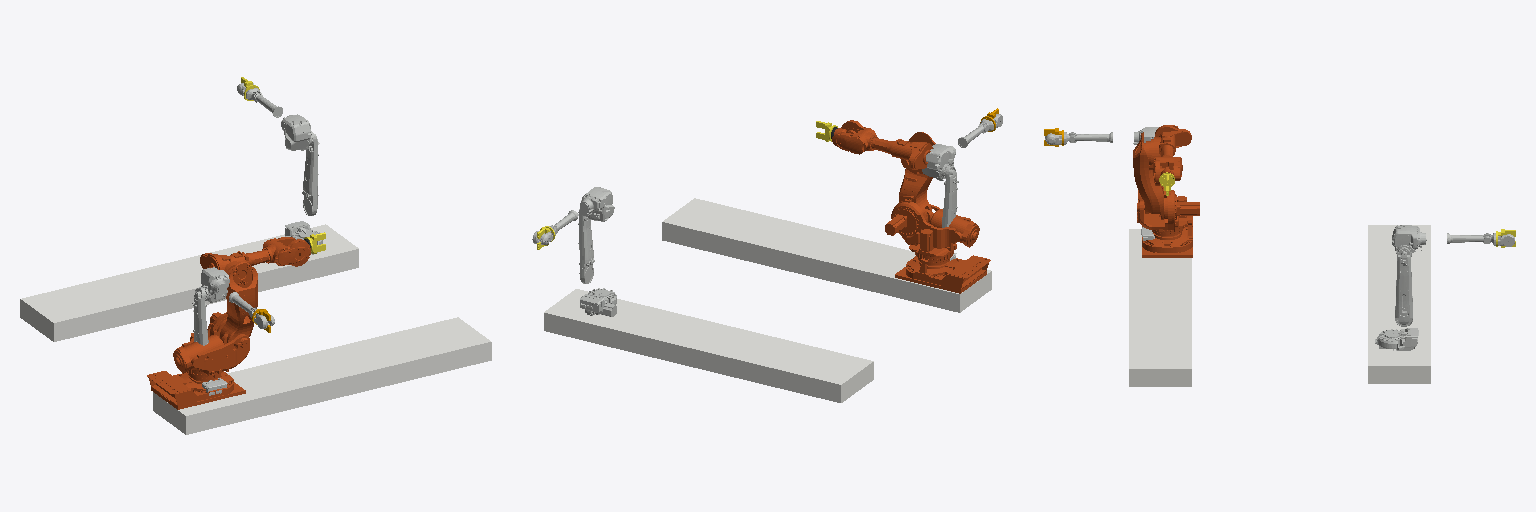
--- Render facts (derived) ---
Views: 3 orthographic renders of the robot side by side, from view 1: azimuth 30°, elevation 25°; view 2: azimuth 150°, elevation 25°; view 3: azimuth 270°, elevation 25°.
Model princeton_3rob_cell with 39 links and 38 joints (18 revolute, 2 prismatic, 18 fixed), rooted at world, posed all joints at 0 but 2 set to mid-range because 0 is outside their limits (r1_joint_1 = -3.14, r2_joint_1 = -3.14).
Visible links, largest first — view 1: r2_axis, r1_axis, r3_base_link, r3_link_1, r3_link_2, r3_link_4, r1_link_2, r1_link_3, r3_balancer_piston, r2_link_3, r2_link_2, r3_link_3; view 2: r1_axis, r2_axis, r3_link_1, r3_base_link, r3_link_4, r3_link_2, r3_link_3, r1_link_3, r1_link_2, r2_link_3, r3_balancer_piston, r2_link_2 (+1 smaller); view 3: r2_axis, r1_axis, r3_link_1, r3_link_2, r3_base_link, r1_link_2, r3_link_3, r1_link_3, r1_base_link, r3_link_4, r1_link_4.
Link boxes in pixels (left/top/right/bottom): r2_axis: left=153, top=317, right=491, bottom=434; r1_axis: left=20, top=224, right=358, bottom=341; r3_base_link: left=147, top=371, right=245, bottom=409; r3_link_1: left=181, top=312, right=249, bottom=380; r3_link_2: left=220, top=262, right=257, bottom=346; r3_link_4: left=246, top=237, right=310, bottom=266; r1_link_2: left=302, top=131, right=319, bottom=215; r1_link_3: left=281, top=114, right=312, bottom=150; r3_balancer_piston: left=173, top=334, right=232, bottom=372; r2_link_3: left=201, top=267, right=229, bottom=302; r2_link_2: left=192, top=287, right=208, bottom=345; r3_link_3: left=200, top=251, right=248, bottom=274; r1_axis: left=544, top=289, right=873, bottom=402; r2_axis: left=662, top=198, right=991, bottom=312; r3_link_1: left=885, top=199, right=972, bottom=264; r3_base_link: left=895, top=255, right=990, bottom=293; r3_link_4: left=832, top=120, right=894, bottom=154; r3_link_2: left=899, top=132, right=935, bottom=215; r3_link_3: left=891, top=139, right=932, bottom=173; r1_link_3: left=580, top=187, right=614, bottom=221; r1_link_2: left=577, top=209, right=594, bottom=283; r2_link_3: left=922, top=144, right=955, bottom=180; r3_balancer_piston: left=926, top=209, right=979, bottom=247; r2_link_2: left=942, top=165, right=958, bottom=227; r2_axis: left=1129, top=229, right=1191, bottom=386; r1_axis: left=1368, top=225, right=1430, bottom=383; r3_link_1: left=1137, top=190, right=1199, bottom=235; r3_link_2: left=1133, top=132, right=1166, bottom=219; r3_base_link: left=1142, top=216, right=1192, bottom=257; r1_link_2: left=1395, top=247, right=1412, bottom=326; r3_link_3: left=1144, top=125, right=1191, bottom=169; r1_link_3: left=1392, top=225, right=1426, bottom=256; r1_base_link: left=1375, top=328, right=1418, bottom=349; r3_link_4: left=1153, top=144, right=1182, bottom=185; r1_link_4: left=1447, top=233, right=1514, bottom=246.
Size in the robot's own frame: 5.21 by 7.21 by 2.43 metres.
27 mesh visuals loaded from 19 distinct referenced files (17 binary STL); not drawn: 2 (reference not matched to a file when rendering).

robot.urdf — princeton_3rob_cell:
<?xml version="1.0" ?>
<!-- =================================================================================== -->
<!-- |    This document was autogenerated by xacro from princeton_3rob_cell.xacro      | -->
<!-- |    EDITING THIS FILE BY HAND IS NOT RECOMMENDED                                 | -->
<!-- =================================================================================== -->
<robot name="princeton_3rob_cell">
  <!-- Conversion were obtained from http://www.e-paint.co.uk/Lab_values.asp
       unless otherwise stated. -->
  <link name="world"/>
  <!-- -->
  <!--ROBOT 1-->
  <joint name="r1_world_joint" type="fixed">
    <parent link="world"/>
    <child link="r1_axis"/>
    <origin rpy="0.0 0.0 3.14159" xyz="3.70 3.45 0.02"/>
  </joint>
  <!-- Conversion were obtained from http://www.e-paint.co.uk/Lab_values.asp
       unless otherwise stated. -->
  <!-- Conversion were obtained from http://www.e-paint.co.uk/Lab_values.asp
       unless otherwise stated. -->
  <!-- LINEAR AXIS -->
  <!-- linear axis link list -->
  <link name="r1_axis">
    <inertial>
      <origin xyz="0.0 0.0 0.0"/>
      <mass value="120"/>
      <inertia ixx="-4.98000" ixy="-0.00000" ixz="2.70000" iyy="-5.95200" iyz="-0.00000" izz="0.82800"/>
    </inertial>
    <visual>
      <geometry>
        <mesh filename="package://ECL_tracks/meshes/visual/axis.stl"/>
      </geometry>
      <material name="">
        <color rgba="0.9254902 0.9254902 0.9058824 1"/>
      </material>
    </visual>
    <collision>
      <geometry>
        <mesh filename="package://ECL_tracks/meshes/collision/axis.stl"/>
      </geometry>
    </collision>
  </link>
  <link name="r1_cart">
    <inertial>
      <origin xyz="0.0 0.0 0.0"/>
      <mass value="120.00000"/>
      <inertia ixx="-4.98000" ixy="-0.00000" ixz="2.70000" iyy="-5.95200" iyz="-0.00000" izz="0.82800"/>
    </inertial>
    <visual>
      <geometry>
        <mesh filename="package://ECL_tracks/meshes/visual/cart.stl"/>
      </geometry>
      <material name="">
        <color rgba="0.9254902 0.9254902 0.9058824 1"/>
      </material>
    </visual>
    <collision>
      <geometry>
        <mesh filename="package://ECL_tracks/meshes/collision/cart.stl"/>
      </geometry>
    </collision>
  </link>
  <!-- linear axis joint list -->
  <joint name="r1_cart_joint" type="prismatic">
    <parent link="r1_axis"/>
    <child link="r1_cart"/>
    <origin rpy="0 0 0 " xyz="0 0 0"/>
    <axis xyz="1 0 0"/>
    <limit effort="100000" lower="0" upper="3.9" velocity="2.618"/>
    <dynamics damping="0.2" friction="0"/>
  </joint>
  <joint name="r1_abb_joint" type="fixed">
    <parent link="r1_cart"/>
    <child link="r1_base_link"/>
    <origin rpy="0 0 1.5707963267948966 " xyz="0 0 0 "/>
    <dynamics damping="0.2" friction="0"/>
  </joint>
  <!-- ARE WE MISSING A WORLD TO AXIS fixed joint? for only the abb_on_axis group?-->
  <!-- GRIPPER -->
  <!-- gripper link list -->
  <link name="r1_gripper">
    <visual>
      <geometry>
        <mesh filename="package://abb_irb4600_40_255/meshes/visual/gripper.stl"/>
      </geometry>
    </visual>
    <collision>
      <geometry>
        <mesh filename="package://abb_irb4600_40_255/meshes/collision/gripper.stl"/>
      </geometry>
    </collision>
  </link>
  <link name="r1_tcp"/>
  <!-- gripper joint list -->
  <joint name="r1_gripper_joint" type="fixed">
    <parent link="r1_tool0"/>
    <child link="r1_gripper"/>
    <origin rpy="0 0 0" xyz="0 0 0"/>
  </joint>
  <joint name="r1_tcp_joint" type="fixed">
    <parent link="r1_gripper"/>
    <child link="r1_tcp"/>
    <origin rpy="0 0 0" xyz="0 0 0.352"/>
  </joint>
  <!-- IRB4600 -->
  <!-- irb4600 link list -->
  <link name="r1_base_link">
    <inertial>
      <origin xyz="0.0 0.0 0.0"/>
      <mass value="120.00000"/>
      <inertia ixx="-4.98000" ixy="-0.00000" ixz="2.70000" iyy="-5.95200" iyz="-0.00000" izz="0.82800"/>
    </inertial>
    <visual>
      <geometry>
        <mesh filename="package://abb_irb4600_40_255/meshes/visual/base_link.stl"/>
      </geometry>
      <material name="">
        <color rgba="0.7725490 0.7803922 0.7686275 1"/>
      </material>
    </visual>
    <collision>
      <geometry>
        <mesh filename="package://abb_irb4600_40_255/meshes/collision/base_link.stl"/>
      </geometry>
    </collision>
  </link>
  <link name="r1_link_1">
    <inertial>
      <origin xyz="0.18000 0.00000 0.50000"/>
      <mass value="120.00000"/>
      <inertia ixx="-4.98000" ixy="-0.00000" ixz="2.70000" iyy="-5.95200" iyz="-0.00000" izz="0.82800"/>
    </inertial>
    <visual>
      <geometry>
        <mesh filename="package://abb_irb4600_40_255/meshes/visual/link_1.stl"/>
      </geometry>
      <material name="">
        <color rgba="0.7725490 0.7803922 0.7686275 1"/>
      </material>
    </visual>
    <collision>
      <geometry>
        <mesh filename="package://abb_irb4600_40_255/meshes/collision/link_1.stl"/>
      </geometry>
    </collision>
  </link>
  <link name="r1_link_2">
    <inertial>
      <origin xyz="0.94000 0.08000 -0.34000"/>
      <mass value="120.00000"/>
      <inertia ixx="-2.96000" ixy="2.25600" ixz="-9.58800" iyy="-18.72601" iyz="-0.81600" izz="-14.95000"/>
    </inertial>
    <visual>
      <geometry>
        <mesh filename="package://abb_irb4600_40_255/meshes/visual/link_2.stl"/>
      </geometry>
      <material name="">
        <color rgba="0.7725490 0.7803922 0.7686275 1"/>
      </material>
    </visual>
    <collision>
      <geometry>
        <mesh filename="package://abb_irb4600_40_255/meshes/collision/link_2.stl"/>
      </geometry>
    </collision>
  </link>
  <link name="r1_link_3">
    <inertial>
      <origin xyz="0.07000 -0.26600 0.08800"/>
      <mass value="120.00000"/>
      <inertia ixx="1.34500" ixy="-0.55860" ixz="0.18480" iyy="4.65068" iyz="-0.70224" izz="2.76032"/>
    </inertial>
    <visual>
      <geometry>
        <mesh filename="package://abb_irb4600_40_255/meshes/visual/link_3.stl"/>
      </geometry>
      <material name="">
        <color rgba="0.7725490 0.7803922 0.7686275 1"/>
      </material>
    </visual>
    <collision>
      <geometry>
        <mesh filename="package://abb_irb4600_40_255/meshes/collision/link_3.stl"/>
      </geometry>
    </collision>
  </link>
  <link name="r1_link_4">
    <inertial>
      <origin xyz="0.00000 0.00000 1.00000"/>
      <mass value="40.00000"/>
      <inertia ixx="-8.00000" ixy="-0.00000" ixz="-0.00000" iyy="-8.00000" iyz="-0.00000" izz="0.48200"/>
    </inertial>
    <visual>
      <geometry>
        <mesh filename="package://abb_irb4600_40_255/meshes/visual/link_4.stl"/>
      </geometry>
      <material name="">
        <color rgba="0.7725490 0.7803922 0.7686275 1"/>
      </material>
    </visual>
    <collision>
      <geometry>
        <mesh filename="package://abb_irb4600_40_255/meshes/collision/link_4.stl"/>
      </geometry>
    </collision>
  </link>
  <link name="r1_link_5">
    <inertial>
      <origin xyz="0.14000 0.00000 0.00000"/>
      <mass value="10.00000"/>
      <inertia ixx="0.04000" ixy="-0.00000" ixz="-0.00000" iyy="-0.00900" iyz="-0.00000" izz="-0.00400"/>
    </inertial>
    <visual>
      <geometry>
        <mesh filename="package://abb_irb4600_40_255/meshes/visual/link_5.stl"/>
      </geometry>
      <material name="">
        <color rgba="0.7725490 0.7803922 0.7686275 1"/>
      </material>
    </visual>
    <collision>
      <geometry>
        <mesh filename="package://abb_irb4600_40_255/meshes/collision/link_5.stl"/>
      </geometry>
    </collision>
  </link>
  <link name="r1_link_6">
    <inertial>
      <origin xyz="0.08100 -0.09100 0.33200"/>
      <mass value="5.00000"/>
      <inertia ixx="-0.29652" ixy="-0.03686" ixz="0.09396" iyy="-0.28792" iyz="-0.10556" izz="-0.04621"/>
    </inertial>
    <visual>
      <geometry>
        <mesh filename="package://abb_irb4600_40_255/meshes/visual/link_6.stl"/>
      </geometry>
      <material name="">
        <color rgba="0.1882353 0.1960784 0.2039216 1"/>
      </material>
    </visual>
    <collision>
      <geometry>
        <mesh filename="package://abb_irb4600_40_255/meshes/collision/link_6.stl"/>
      </geometry>
    </collision>
  </link>
  <link name="r1_tool0"/>
  <!-- irb4600 joint list -->
  <joint name="r1_joint_1" type="revolute">
    <parent link="r1_base_link"/>
    <child link="r1_link_1"/>
    <origin rpy="0 0 0 " xyz="0 0 0"/>
    <axis xyz="0 0 1"/>
    <limit effort="100000" lower="-3.141592653589793" upper="-3.141592653589793" velocity="2.618"/>
    <dynamics damping="0.2" friction="0"/>
  </joint>
  <joint name="r1_joint_2" type="revolute">
    <parent link="r1_link_1"/>
    <child link="r1_link_2"/>
    <origin rpy="0 0 0 " xyz="0.175 0 0.495"/>
    <axis xyz="0 1 0"/>
    <limit effort="100000" lower="-1.3089969389957472" upper="2.6179938779914944" velocity="2.618"/>
    <dynamics damping="0.2" friction="0"/>
  </joint>
  <joint name="r1_joint_3" type="revolute">
    <parent link="r1_link_2"/>
    <child link="r1_link_3"/>
    <origin rpy="0 0 0 " xyz="0 0 1.095"/>
    <axis xyz="0 1 0"/>
    <limit effort="100000" lower="-3.141592653589793" upper="1.3089969389957472" velocity="2.618"/>
    <dynamics damping="0.2" friction="0"/>
  </joint>
  <joint name="r1_joint_4" type="revolute">
    <parent link="r1_link_3"/>
    <child link="r1_link_4"/>
    <origin rpy="0 0 0 " xyz="0.332 0 0.175"/>
    <axis xyz="1 0 0"/>
    <limit effort="10000" lower="-6.981317007977318" upper="6.981317007977318" velocity="6.2832"/>
    <dynamics damping="0.2" friction="0"/>
  </joint>
  <joint name="r1_joint_5" type="revolute">
    <parent link="r1_link_4"/>
    <child link="r1_link_5"/>
    <origin rpy="0 0 0 " xyz="0.939 0 0"/>
    <axis xyz="0 1 0"/>
    <limit effort="100000" lower="-2.181661564992912" upper="2.0943951023931953" velocity="6.2832"/>
    <dynamics damping="0.2" friction="0"/>
  </joint>
  <joint name="r1_joint_6" type="revolute">
    <parent link="r1_link_5"/>
    <child link="r1_link_6"/>
    <origin rpy="0 0 0 " xyz="0.135 0 0"/>
    <axis xyz="1 0 0"/>
    <limit effort="100000" lower="-6.981317007977318" upper="6.981317007977318" velocity="7.854"/>
    <dynamics damping="0.2" friction="0"/>
  </joint>
  <joint name="r1_joint_6-tool0" type="fixed">
    <parent link="r1_link_6"/>
    <child link="r1_tool0"/>
    <origin rpy="0 1.5707963267948966 0" xyz="0 0 0"/>
  </joint>
  <!-- -->
  <!-- IRB4600 base_link to ABB World Coordinates transform -->
  <link name="r1_base"/>
  <joint name="r1_base_link-base" type="fixed">
    <parent link="r1_base_link"/>
    <child link="r1_base"/>
    <origin rpy="0 0 0" xyz="0 0 0"/>
  </joint>
  <!-- -->
  <!--ROBOT 2-->
  <joint name="r2_world_joint" type="fixed">
    <parent link="world"/>
    <child link="r2_axis"/>
    <origin rpy="0.0 0.0 0.0" xyz="0.0 0.0 0.0"/>
  </joint>
  <!-- Conversion were obtained from http://www.e-paint.co.uk/Lab_values.asp
       unless otherwise stated. -->
  <!-- Conversion were obtained from http://www.e-paint.co.uk/Lab_values.asp
       unless otherwise stated. -->
  <!-- LINEAR AXIS -->
  <!-- linear axis link list -->
  <link name="r2_axis">
    <inertial>
      <origin xyz="0.0 0.0 0.0"/>
      <mass value="120"/>
      <inertia ixx="-4.98000" ixy="-0.00000" ixz="2.70000" iyy="-5.95200" iyz="-0.00000" izz="0.82800"/>
    </inertial>
    <visual>
      <geometry>
        <mesh filename="package://ECL_tracks/meshes/visual/axis.stl"/>
      </geometry>
      <material name="">
        <color rgba="0.9254902 0.9254902 0.9058824 1"/>
      </material>
    </visual>
    <collision>
      <geometry>
        <mesh filename="package://ECL_tracks/meshes/collision/axis.stl"/>
      </geometry>
    </collision>
  </link>
  <link name="r2_cart">
    <inertial>
      <origin xyz="0.0 0.0 0.0"/>
      <mass value="120.00000"/>
      <inertia ixx="-4.98000" ixy="-0.00000" ixz="2.70000" iyy="-5.95200" iyz="-0.00000" izz="0.82800"/>
    </inertial>
    <visual>
      <geometry>
        <mesh filename="package://ECL_tracks/meshes/visual/cart.stl"/>
      </geometry>
      <material name="">
        <color rgba="0.9254902 0.9254902 0.9058824 1"/>
      </material>
    </visual>
    <collision>
      <geometry>
        <mesh filename="package://ECL_tracks/meshes/collision/cart.stl"/>
      </geometry>
    </collision>
  </link>
  <!-- linear axis joint list -->
  <joint name="r2_cart_joint" type="prismatic">
    <parent link="r2_axis"/>
    <child link="r2_cart"/>
    <origin rpy="0 0 0 " xyz="0 0 0"/>
    <axis xyz="1 0 0"/>
    <limit effort="100000" lower="0" upper="3.9" velocity="2.618"/>
    <dynamics damping="0.2" friction="0"/>
  </joint>
  <joint name="r2_abb_joint" type="fixed">
    <parent link="r2_cart"/>
    <child link="r2_base_link"/>
    <origin rpy="0 0 1.5707963267948966 " xyz="0 0 0 "/>
    <dynamics damping="0.2" friction="0"/>
  </joint>
  <!-- ARE WE MISSING A WORLD TO AXIS fixed joint? for only the abb_on_axis group?-->
  <!-- GRIPPER -->
  <!-- gripper link list -->
  <link name="r2_gripper">
    <visual>
      <geometry>
        <mesh filename="package://abb_irb4600_40_255/meshes/visual/gripper.stl"/>
      </geometry>
    </visual>
    <collision>
      <geometry>
        <mesh filename="package://abb_irb4600_40_255/meshes/collision/gripper.stl"/>
      </geometry>
    </collision>
  </link>
  <link name="r2_tcp"/>
  <!-- gripper joint list -->
  <joint name="r2_gripper_joint" type="fixed">
    <parent link="r2_tool0"/>
    <child link="r2_gripper"/>
    <origin rpy="0 0 0" xyz="0 0 0"/>
  </joint>
  <joint name="r2_tcp_joint" type="fixed">
    <parent link="r2_gripper"/>
    <child link="r2_tcp"/>
    <origin rpy="0 0 0" xyz="0 0 0.352"/>
  </joint>
  <!-- IRB4600 -->
  <!-- irb4600 link list -->
  <link name="r2_base_link">
    <inertial>
      <origin xyz="0.0 0.0 0.0"/>
      <mass value="120.00000"/>
      <inertia ixx="-4.98000" ixy="-0.00000" ixz="2.70000" iyy="-5.95200" iyz="-0.00000" izz="0.82800"/>
    </inertial>
    <visual>
      <geometry>
        <mesh filename="package://abb_irb4600_40_255/meshes/visual/base_link.stl"/>
      </geometry>
      <material name="">
        <color rgba="0.7725490 0.7803922 0.7686275 1"/>
      </material>
    </visual>
    <collision>
      <geometry>
        <mesh filename="package://abb_irb4600_40_255/meshes/collision/base_link.stl"/>
      </geometry>
    </collision>
  </link>
  <link name="r2_link_1">
    <inertial>
      <origin xyz="0.18000 0.00000 0.50000"/>
      <mass value="120.00000"/>
      <inertia ixx="-4.98000" ixy="-0.00000" ixz="2.70000" iyy="-5.95200" iyz="-0.00000" izz="0.82800"/>
    </inertial>
    <visual>
      <geometry>
        <mesh filename="package://abb_irb4600_40_255/meshes/visual/link_1.stl"/>
      </geometry>
      <material name="">
        <color rgba="0.7725490 0.7803922 0.7686275 1"/>
      </material>
    </visual>
    <collision>
      <geometry>
        <mesh filename="package://abb_irb4600_40_255/meshes/collision/link_1.stl"/>
      </geometry>
    </collision>
  </link>
  <link name="r2_link_2">
    <inertial>
      <origin xyz="0.94000 0.08000 -0.34000"/>
      <mass value="120.00000"/>
      <inertia ixx="-2.96000" ixy="2.25600" ixz="-9.58800" iyy="-18.72601" iyz="-0.81600" izz="-14.95000"/>
    </inertial>
    <visual>
      <geometry>
        <mesh filename="package://abb_irb4600_40_255/meshes/visual/link_2.stl"/>
      </geometry>
      <material name="">
        <color rgba="0.7725490 0.7803922 0.7686275 1"/>
      </material>
    </visual>
    <collision>
      <geometry>
        <mesh filename="package://abb_irb4600_40_255/meshes/collision/link_2.stl"/>
      </geometry>
    </collision>
  </link>
  <link name="r2_link_3">
    <inertial>
      <origin xyz="0.07000 -0.26600 0.08800"/>
      <mass value="120.00000"/>
      <inertia ixx="1.34500" ixy="-0.55860" ixz="0.18480" iyy="4.65068" iyz="-0.70224" izz="2.76032"/>
    </inertial>
    <visual>
      <geometry>
        <mesh filename="package://abb_irb4600_40_255/meshes/visual/link_3.stl"/>
      </geometry>
      <material name="">
        <color rgba="0.7725490 0.7803922 0.7686275 1"/>
      </material>
    </visual>
    <collision>
      <geometry>
        <mesh filename="package://abb_irb4600_40_255/meshes/collision/link_3.stl"/>
      </geometry>
    </collision>
  </link>
  <link name="r2_link_4">
    <inertial>
      <origin xyz="0.00000 0.00000 1.00000"/>
      <mass value="40.00000"/>
      <inertia ixx="-8.00000" ixy="-0.00000" ixz="-0.00000" iyy="-8.00000" iyz="-0.00000" izz="0.48200"/>
    </inertial>
    <visual>
      <geometry>
        <mesh filename="package://abb_irb4600_40_255/meshes/visual/link_4.stl"/>
      </geometry>
      <material name="">
        <color rgba="0.7725490 0.7803922 0.7686275 1"/>
      </material>
    </visual>
    <collision>
      <geometry>
        <mesh filename="package://abb_irb4600_40_255/meshes/collision/link_4.stl"/>
      </geometry>
    </collision>
  </link>
  <link name="r2_link_5">
    <inertial>
      <origin xyz="0.14000 0.00000 0.00000"/>
      <mass value="10.00000"/>
      <inertia ixx="0.04000" ixy="-0.00000" ixz="-0.00000" iyy="-0.00900" iyz="-0.00000" izz="-0.00400"/>
    </inertial>
    <visual>
      <geometry>
        <mesh filename="package://abb_irb4600_40_255/meshes/visual/link_5.stl"/>
      </geometry>
      <material name="">
        <color rgba="0.7725490 0.7803922 0.7686275 1"/>
      </material>
    </visual>
    <collision>
      <geometry>
        <mesh filename="package://abb_irb4600_40_255/meshes/collision/link_5.stl"/>
      </geometry>
    </collision>
  </link>
  <link name="r2_link_6">
    <inertial>
      <origin xyz="0.08100 -0.09100 0.33200"/>
      <mass value="5.00000"/>
      <inertia ixx="-0.29652" ixy="-0.03686" ixz="0.09396" iyy="-0.28792" iyz="-0.10556" izz="-0.04621"/>
    </inertial>
    <visual>
      <geometry>
        <mesh filename="package://abb_irb4600_40_255/meshes/visual/link_6.stl"/>
      </geometry>
      <material name="">
        <color rgba="0.1882353 0.1960784 0.2039216 1"/>
      </material>
    </visual>
    <collision>
      <geometry>
        <mesh filename="package://abb_irb4600_40_255/meshes/collision/link_6.stl"/>
      </geometry>
    </collision>
  </link>
  <link name="r2_tool0"/>
  <!-- irb4600 joint list -->
  <joint name="r2_joint_1" type="revolute">
    <parent link="r2_base_link"/>
    <child link="r2_link_1"/>
    <origin rpy="0 0 0 " xyz="0 0 0"/>
    <axis xyz="0 0 1"/>
    <limit effort="100000" lower="-3.141592653589793" upper="-3.141592653589793" velocity="2.618"/>
    <dynamics damping="0.2" friction="0"/>
  </joint>
  <joint name="r2_joint_2" type="revolute">
    <parent link="r2_link_1"/>
    <child link="r2_link_2"/>
    <origin rpy="0 0 0 " xyz="0.175 0 0.495"/>
    <axis xyz="0 1 0"/>
    <limit effort="100000" lower="-1.3089969389957472" upper="2.6179938779914944" velocity="2.618"/>
    <dynamics damping="0.2" friction="0"/>
  </joint>
  <joint name="r2_joint_3" type="revolute">
    <parent link="r2_link_2"/>
    <child link="r2_link_3"/>
    <origin rpy="0 0 0 " xyz="0 0 1.095"/>
    <axis xyz="0 1 0"/>
    <limit effort="100000" lower="-3.141592653589793" upper="1.3089969389957472" velocity="2.618"/>
    <dynamics damping="0.2" friction="0"/>
  </joint>
  <joint name="r2_joint_4" type="revolute">
    <parent link="r2_link_3"/>
    <child link="r2_link_4"/>
    <origin rpy="0 0 0 " xyz="0.332 0 0.175"/>
    <axis xyz="1 0 0"/>
    <limit effort="10000" lower="-6.981317007977318" upper="6.981317007977318" velocity="6.2832"/>
    <dynamics damping="0.2" friction="0"/>
  </joint>
  <joint name="r2_joint_5" type="revolute">
    <parent link="r2_link_4"/>
    <child link="r2_link_5"/>
    <origin rpy="0 0 0 " xyz="0.939 0 0"/>
    <axis xyz="0 1 0"/>
    <limit effort="100000" lower="-2.181661564992912" upper="2.0943951023931953" velocity="6.2832"/>
    <dynamics damping="0.2" friction="0"/>
  </joint>
  <joint name="r2_joint_6" type="revolute">
    <parent link="r2_link_5"/>
    <child link="r2_link_6"/>
    <origin rpy="0 0 0 " xyz="0.135 0 0"/>
    <axis xyz="1 0 0"/>
    <limit effort="100000" lower="-6.981317007977318" upper="6.981317007977318" velocity="7.854"/>
    <dynamics damping="0.2" friction="0"/>
  </joint>
  <joint name="r2_joint_6-tool0" type="fixed">
    <parent link="r2_link_6"/>
    <child link="r2_tool0"/>
    <origin rpy="0 1.5707963267948966 0" xyz="0 0 0"/>
  </joint>
  <!-- -->
  <!-- IRB4600 base_link to ABB World Coordinates transform -->
  <link name="r2_base"/>
  <joint name="r2_base_link-base" type="fixed">
    <parent link="r2_base_link"/>
    <child link="r2_base"/>
    <origin rpy="0 0 0" xyz="0 0 0"/>
  </joint>
  <!-- -->
  <!--ROBOT 3-->
  <joint name="r3_world_joint" type="fixed">
    <parent link="world"/>
    <child link="r3_base_link"/>
    <origin rpy="0.0 0.0 0.0" xyz="0.0 0.0 0.0"/>
  </joint>
  <!-- GRIPPER -->
  <!-- gripper link list -->
  <link name="r3_gripper">
    <visual>
      <geometry>
        <mesh filename="package://abb_irb7600_400_255/meshes/visual/gripper.stl"/>
      </geometry>
    </visual>
    <collision>
      <geometry>
        <mesh filename="package://abb_irb7600_400_255/meshes/collision/gripper.stl"/>
      </geometry>
    </collision>
  </link>
  <link name="r3_tcp"/>
  <!-- gripper joint list -->
  <joint name="r3_gripper_joint" type="fixed">
    <parent link="r3_tool0"/>
    <child link="r3_gripper"/>
    <origin rpy="0 0 0" xyz="0 0 0"/>
  </joint>
  <joint name="r3_tcp_joint" type="fixed">
    <parent link="r3_gripper"/>
    <child link="r3_tcp"/>
    <origin rpy="0 0 0" xyz="0 0 0.352"/>
  </joint>
  <!-- IRB7600-->
  <!-- irb7600 link list -->
  <link name="r3_base_link">
    <visual>
      <geometry>
        <mesh filename="package://abb_irb7600_400_255/meshes/visual/base_link.stl"/>
      </geometry>
      <material name="">
        <color rgba="0.7372549 0.3490196 0.1607843 1"/>
      </material>
    </visual>
    <collision>
      <geometry>
        <mesh filename="package://abb_irb7600_400_255/meshes/collision/base_link.stl"/>
      </geometry>
      <material name="">
        <color rgba="0.7372549 0.3490196 0.1607843 1"/>
      </material>
    </collision>
  </link>
  <link name="r3_link_1">
    <visual>
      <geometry>
        <mesh filename="package://abb_irb7600_400_255/meshes/visual/link_1.stl"/>
      </geometry>
      <material name="">
        <color rgba="0.7372549 0.3490196 0.1607843 1"/>
      </material>
    </visual>
    <collision>
      <geometry>
        <mesh filename="package://abb_irb7600_400_255/meshes/collision/link_1.stl"/>
      </geometry>
      <material name="">
        <color rgba="1 1 0 1"/>
      </material>
    </collision>
  </link>
  <link name="r3_link_2">
    <visual>
      <geometry>
        <mesh filename="package://abb_irb7600_400_255/meshes/visual/link_2.stl"/>
      </geometry>
      <material name="">
        <color rgba="0.7372549 0.3490196 0.1607843 1"/>
      </material>
    </visual>
    <collision>
      <geometry>
        <mesh filename="package://abb_irb7600_400_255/meshes/collision/link_2.stl"/>
      </geometry>
      <material name="">
        <color rgba="1 1 0 1"/>
      </material>
    </collision>
  </link>
  <link name="r3_link_3">
    <visual>
      <geometry>
        <mesh filename="package://abb_irb7600_400_255/meshes/visual/link_3.stl"/>
      </geometry>
      <material name="">
        <color rgba="0.7372549 0.3490196 0.1607843 1"/>
      </material>
    </visual>
    <collision>
      <geometry>
        <mesh filename="package://abb_irb7600_400_255/meshes/collision/link_3.stl"/>
      </geometry>
      <material name="">
        <color rgba="1 1 0 1"/>
      </material>
    </collision>
  </link>
  <link name="r3_link_4">
    <visual>
      <geometry>
        <mesh filename="package://abb_irb7600_400_255/meshes/visual/link_4.stl"/>
      </geometry>
      <material name="">
        <color rgba="0.7372549 0.3490196 0.1607843 1"/>
      </material>
    </visual>
    <collision>
      <geometry>
        <mesh filename="package://abb_irb7600_400_255/meshes/collision/link_4.stl"/>
      </geometry>
      <material name="">
        <color rgba="1 1 0 1"/>
      </material>
    </collision>
  </link>
  <link name="r3_link_5">
    <visual>
      <geometry>
        <mesh filename="package://abb_irb7600_400_255/meshes/visual/link_5.stl"/>
      </geometry>
      <material name="">
        <color rgba="0.7372549 0.3490196 0.1607843 1"/>
      </material>
    </visual>
    <collision>
      <geometry>
        <mesh filename="package://abb_irb7600_400_255/meshes/collision/link_5.stl"/>
      </geometry>
      <material name="">
        <color rgba="1 1 0 1"/>
      </material>
    </collision>
  </link>
  <link name="r3_link_6">
    <visual>
      <geometry>
        <mesh filename="package://abb_irb7600_400_255/meshes/visual/link_6.stl"/>
      </geometry>
      <material name="">
        <color rgba="0.1882353 0.1960784 0.2039216 1"/>
      </material>
    </visual>
    <collision>
      <geometry>
        <mesh filename="package://abb_irb7600_400_255/meshes/collision/link_6.stl"/>
      </geometry>
      <material name="">
        <color rgba="0.1882353 0.1960784 0.2039216 1"/>
      </material>
    </collision>
  </link>
  <link name="r3_balancer_piston">
    <visual>
      <geometry>
        <mesh filename="package://abb_irb7600_400_255/meshes/visual/balancer_piston.stl"/>
      </geometry>
      <material name="">
        <color rgba="0.7372549 0.3490196 0.1607843 1"/>
      </material>
    </visual>
    <collision>
      <geometry>
        <mesh filename="package://abb_irb7600_400_255/meshes/collision/balancer_piston.stl"/>
      </geometry>
      <material name="">
        <color rgba="1 1 0 1"/>
      </material>
    </collision>
  </link>
  <link name="r3_tool0"/>
  <!-- end of link list -->
  <!-- joint list -->
  <joint name="r3_joint_1" type="revolute">
    <parent link="r3_base_link"/>
    <child link="r3_link_1"/>
    <origin rpy="0 0 0" xyz="0 0 0"/>
    <axis xyz="0 0 1"/>
    <limit effort="0" lower="-3.141592653589793" upper="3.141592653589793" velocity="1.7453292519943295"/>
  </joint>
  <joint name="r3_joint_2" type="revolute">
    <parent link="r3_link_1"/>
    <child link="r3_link_2"/>
    <origin rpy="0 0 0" xyz="0.410 0 0.780"/>
    <axis xyz="0 1 0"/>
    <limit effort="0" lower="-1.0471975511965976" upper="1.4835298641951802" velocity="1.0471975511965976"/>
  </joint>
  <joint name="r3_joint_3" type="revolute">
    <parent link="r3_link_2"/>
    <child link="r3_link_3"/>
    <origin rpy="0 0 0" xyz="0 0 1.075"/>
    <axis xyz="0 1 0"/>
    <limit effort="0" lower="-3.141592653589793" upper="1.0471975511965976" velocity="1.0471975511965976"/>
  </joint>
  <joint name="r3_joint_4" type="revolute">
    <parent link="r3_link_3"/>
    <child link="r3_link_4"/>
    <origin rpy="0 0 0" xyz="0.175 0 0"/>
    <axis xyz="1 0 0"/>
    <limit effort="0" lower="-5.235987755982989" upper="5.235987755982989" velocity="1.7453292519943295"/>
  </joint>
  <joint name="r3_joint_5" type="revolute">
    <parent link="r3_link_4"/>
    <child link="r3_link_5"/>
    <origin rpy="0 0 0" xyz="0.882 0 0"/>
    <axis xyz="0 1 0"/>
    <limit effort="0" lower="-1.7453292519943295" upper="1.7453292519943295" velocity="1.7453292519943295"/>
  </joint>
  <joint name="r3_joint_6" type="revolute">
    <parent link="r3_link_5"/>
    <child link="r3_link_6"/>
    <origin rpy="0 0 0" xyz="0.244 0 0"/>
    <axis xyz="1 0 0"/>
    <limit effort="0" lower="-6.283185307179586" upper="6.283185307179586" velocity="3.3161255787892263"/>
  </joint>
  <joint name="r3_joint_6-tool0" type="fixed">
    <parent link="r3_link_6"/>
    <child link="r3_tool0"/>
    <origin rpy="0 1.5707963267948966 0" xyz="0 0 0"/>
  </joint>
  <joint name="r3_joint_balancer_piston" type="fixed">
    <parent link="r3_link_1"/>
    <child link="r3_balancer_piston"/>
    <origin rpy="0 0 0" xyz="-0.378 0 0.654"/>
  </joint>
  <!-- -->
  <!-- ROS-Industrial 'base' frame: base_link to ABB World Coordinates transform -->
  <link name="r3_base"/>
  <joint name="r3_base_link-base" type="fixed">
    <parent link="r3_base_link"/>
    <child link="r3_base"/>
    <origin rpy="0 0 0" xyz="0 0 0"/>
  </joint>
</robot>
